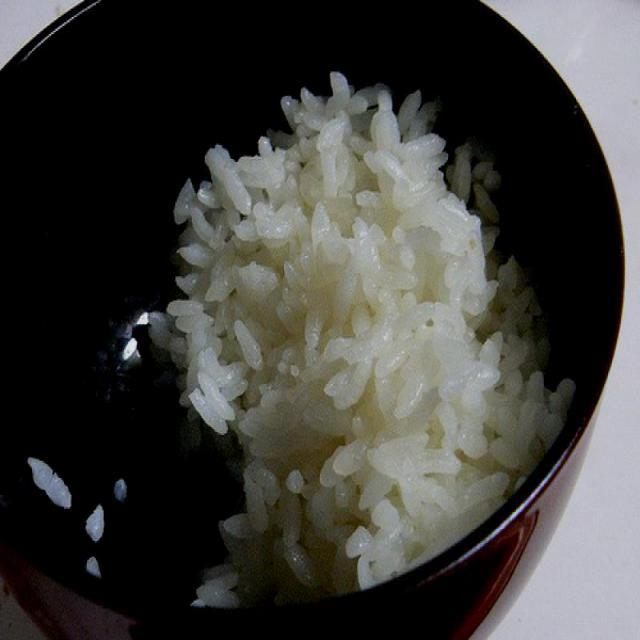rice: (146, 65, 576, 610)
